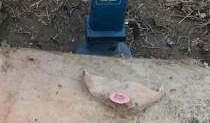text: (100, 85, 146, 112)
